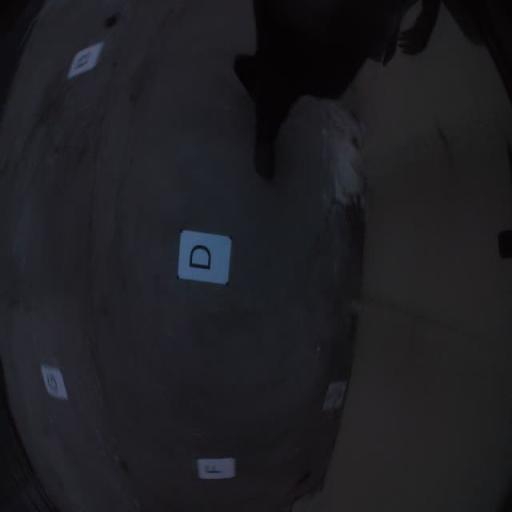A: (322, 380, 348, 412)
B: (67, 40, 104, 79)
D: (177, 229, 233, 286)
F: (195, 456, 238, 482)
G: (40, 363, 70, 402)
